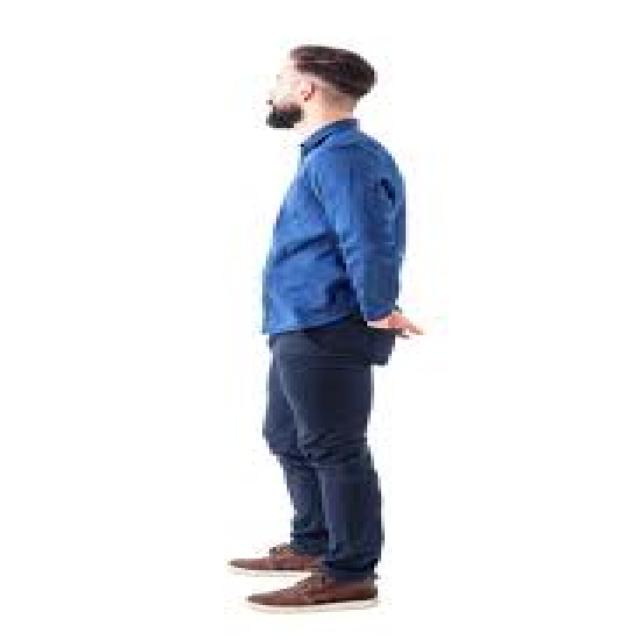adult: (182, 14, 462, 633)
